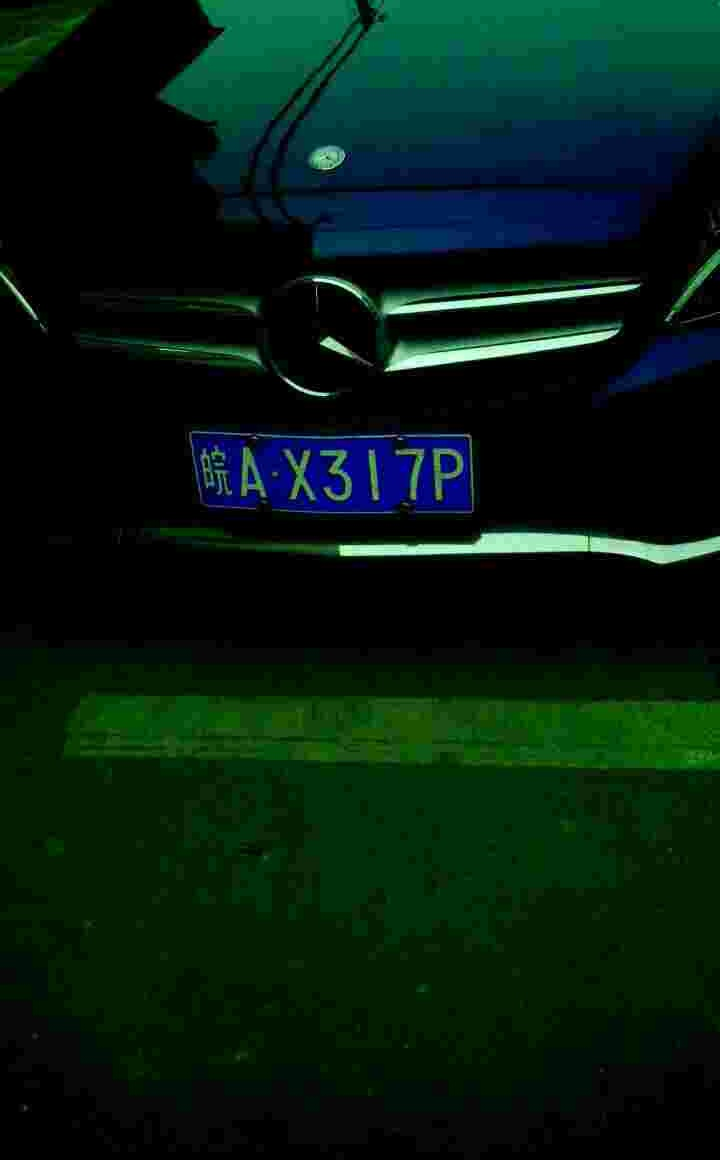license_plate: (183, 434, 466, 508)
